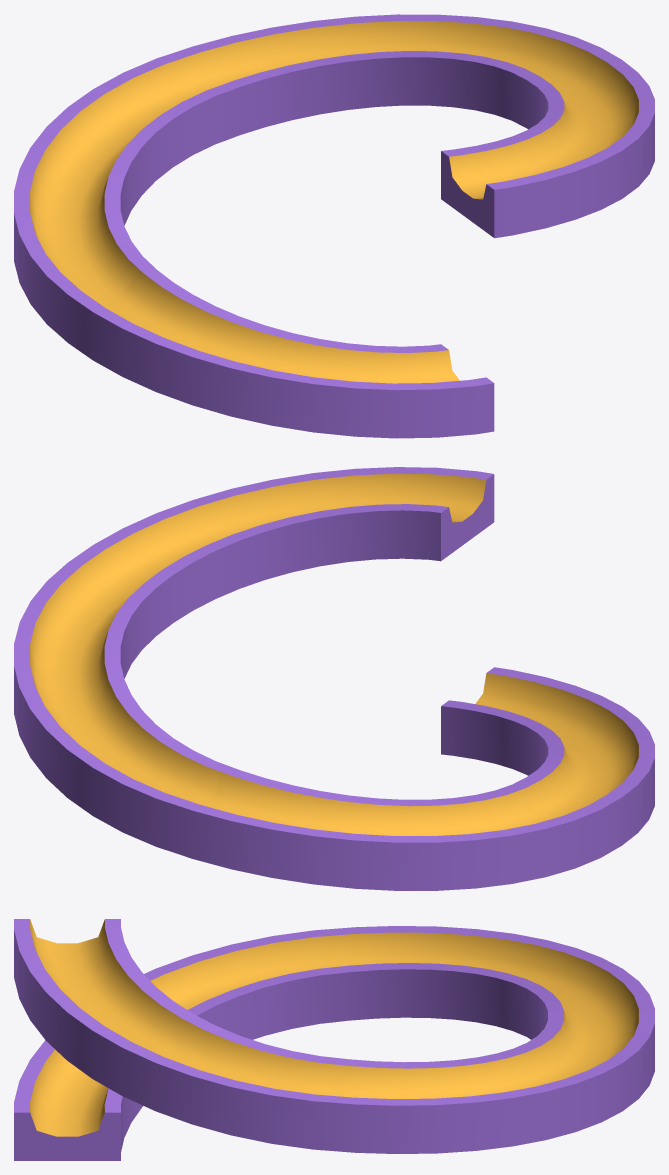
The model's file is helix-large-right-col.glb.
3 renders of one model, top to bottom at view 1: azimuth 30°, elevation 25°; view 2: azimuth 150°, elevation 25°; view 3: azimuth 270°, elevation 25°, orthographic.
Visible parts, largest first — view 1: helix-large-right-col; view 2: helix-large-right-col; view 3: helix-large-right-col.
Part boxes in pixels (box(x1,y1,x2,y2)): helix-large-right-col: box(14, 14, 654, 438); helix-large-right-col: box(14, 467, 654, 890); helix-large-right-col: box(14, 919, 654, 1160).
Size of the model in its own units: 6 by 2.5 by 6.
1 material, 1 textured.
